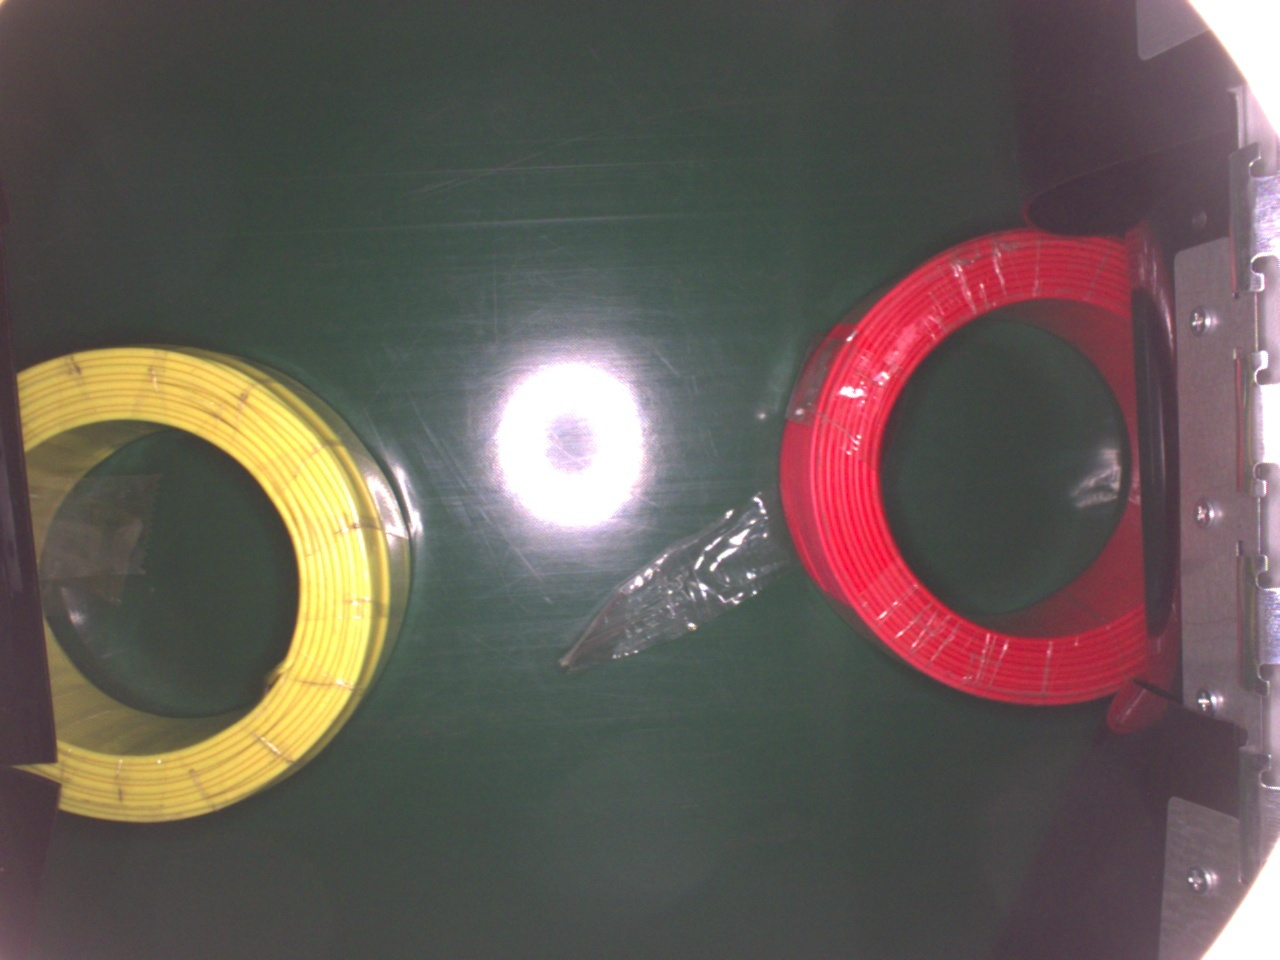red: (779, 226, 1147, 707)
yellow: (5, 341, 413, 827)
